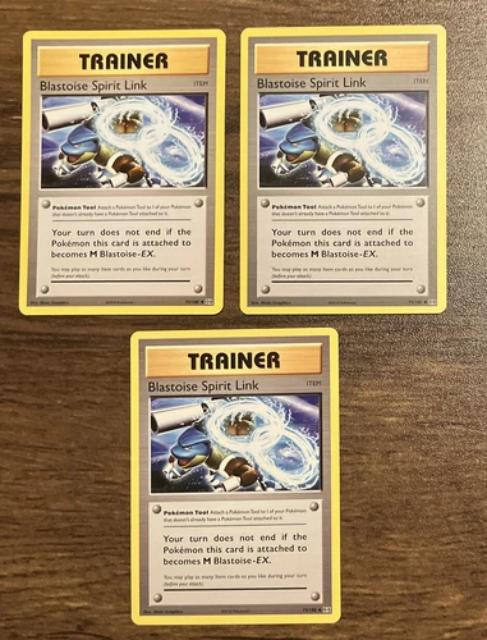Card: (127, 323, 347, 630), (236, 21, 452, 320), (16, 25, 230, 323)
Name: (37, 76, 152, 97), (252, 72, 372, 92), (144, 377, 269, 395)
